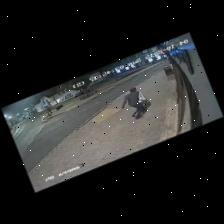person: (121, 88, 145, 119)
